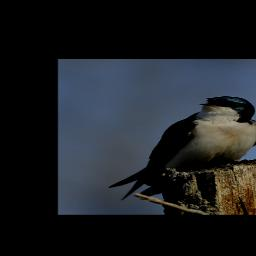Swallow: (108, 96, 256, 201)
